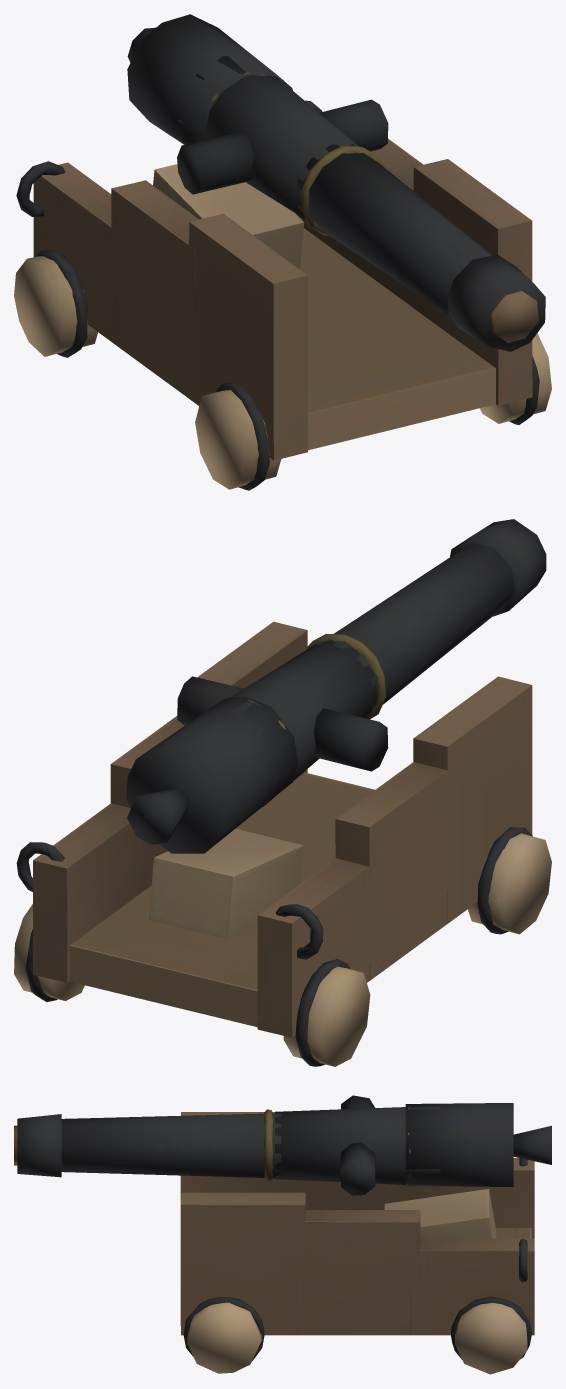
The model's file is cannon_far.68a49758.glb.
3 renders of one model, top to bottom at view 1: azimuth 30°, elevation 25°; view 2: azimuth 150°, elevation 25°; view 3: azimuth 270°, elevation 25°, orthographic. The views are drawn at different scales.
Parts seen in each view (by area): view 1: cannon_body, barrel; view 2: cannon_body, barrel; view 3: cannon_body, barrel.
Boxes of the visible parts, bbox=[...] form: cannon_body: bbox=[14, 100, 551, 490]; barrel: bbox=[127, 14, 545, 351]; cannon_body: bbox=[14, 621, 551, 1066]; barrel: bbox=[126, 519, 546, 853]; cannon_body: bbox=[180, 1112, 534, 1374]; barrel: bbox=[14, 1095, 551, 1195].
Size of the model in its own units: 0.82 by 0.7459 by 1.69.
Materials: 1 (1 with a texture image).
